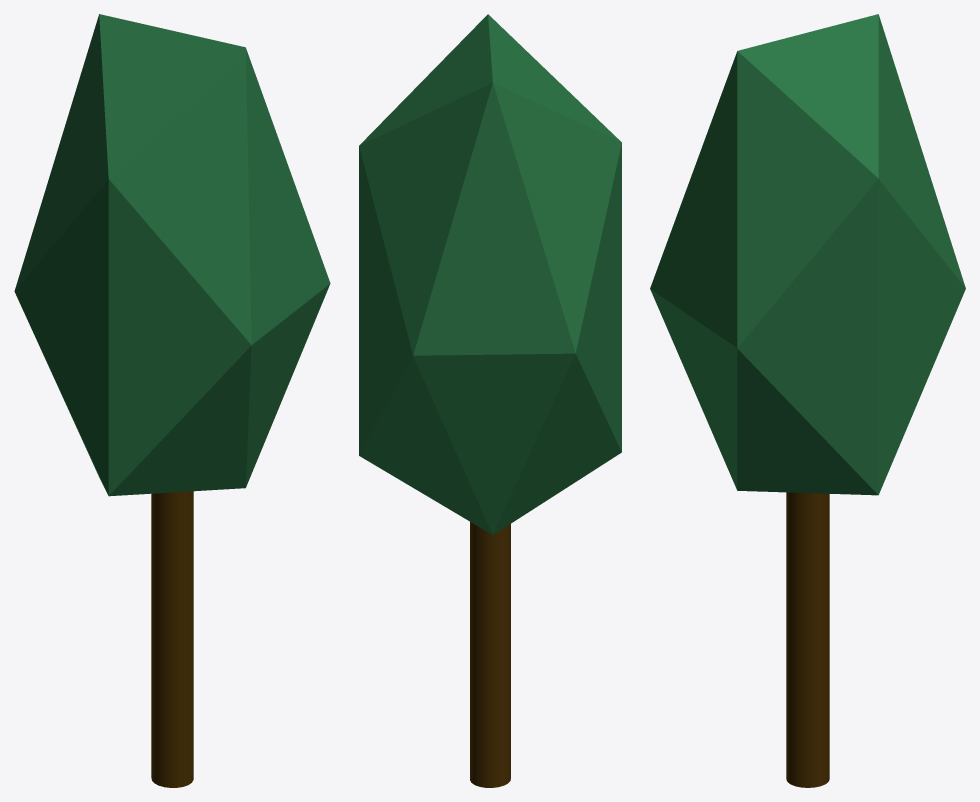
File: arbre base 2.fbx
3 renders of one model, left to right at view 1: azimuth 30°, elevation 25°; view 2: azimuth 150°, elevation 25°; view 3: azimuth 270°, elevation 25°, orthographic. The views are drawn at different scales.
Visible parts, largest first — view 1: pPlatonic1, pCylinder1; view 2: pPlatonic1, pCylinder1; view 3: pPlatonic1, pCylinder1.
Boxes of the visible parts, bbox=[...] form: pPlatonic1: bbox=[14, 14, 330, 496]; pCylinder1: bbox=[151, 491, 193, 787]; pPlatonic1: bbox=[359, 14, 621, 534]; pCylinder1: bbox=[470, 522, 510, 787]; pPlatonic1: bbox=[650, 14, 965, 495]; pCylinder1: bbox=[786, 492, 829, 787].
Size of the model in its own units: 1.79 by 5.22 by 2.
